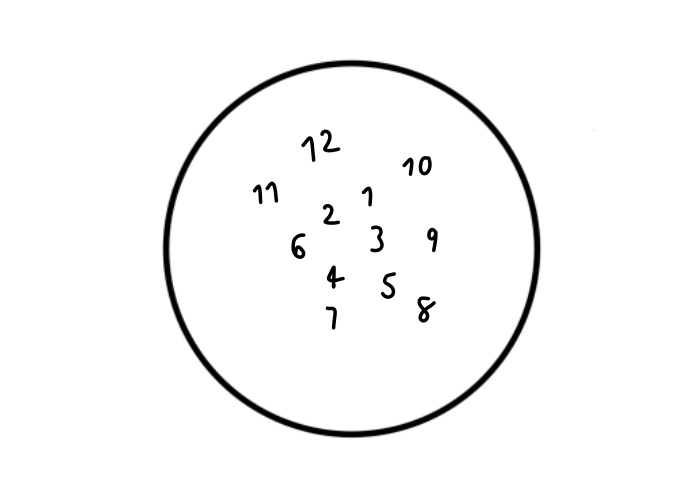eight: (416, 289, 437, 327)
eleven: (254, 180, 281, 207)
five: (379, 268, 398, 300)
four: (324, 260, 345, 292)
nine: (425, 224, 440, 251)
one: (360, 185, 375, 211)
seven: (323, 303, 341, 333)
six: (288, 227, 309, 261)
ten: (402, 153, 434, 178)
three: (368, 223, 386, 254)
twelve: (299, 127, 340, 162)
two: (319, 199, 341, 229)
